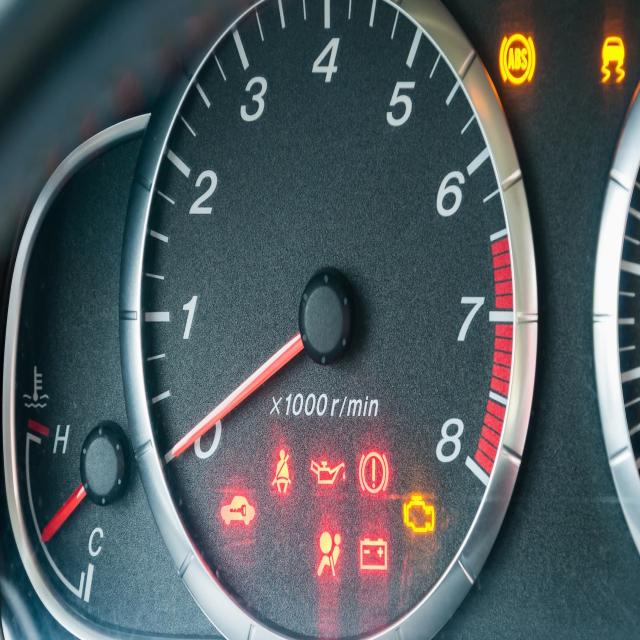kontrolka: (489, 22, 543, 96), (307, 447, 354, 500), (596, 24, 632, 91), (312, 525, 348, 585), (399, 490, 439, 541), (399, 490, 438, 540), (357, 449, 391, 501), (358, 532, 392, 574)
